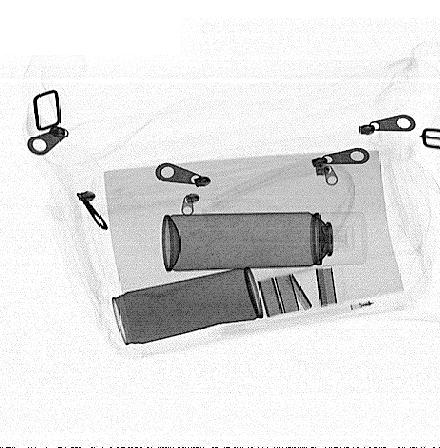Sprayer: (161, 211, 367, 273)
